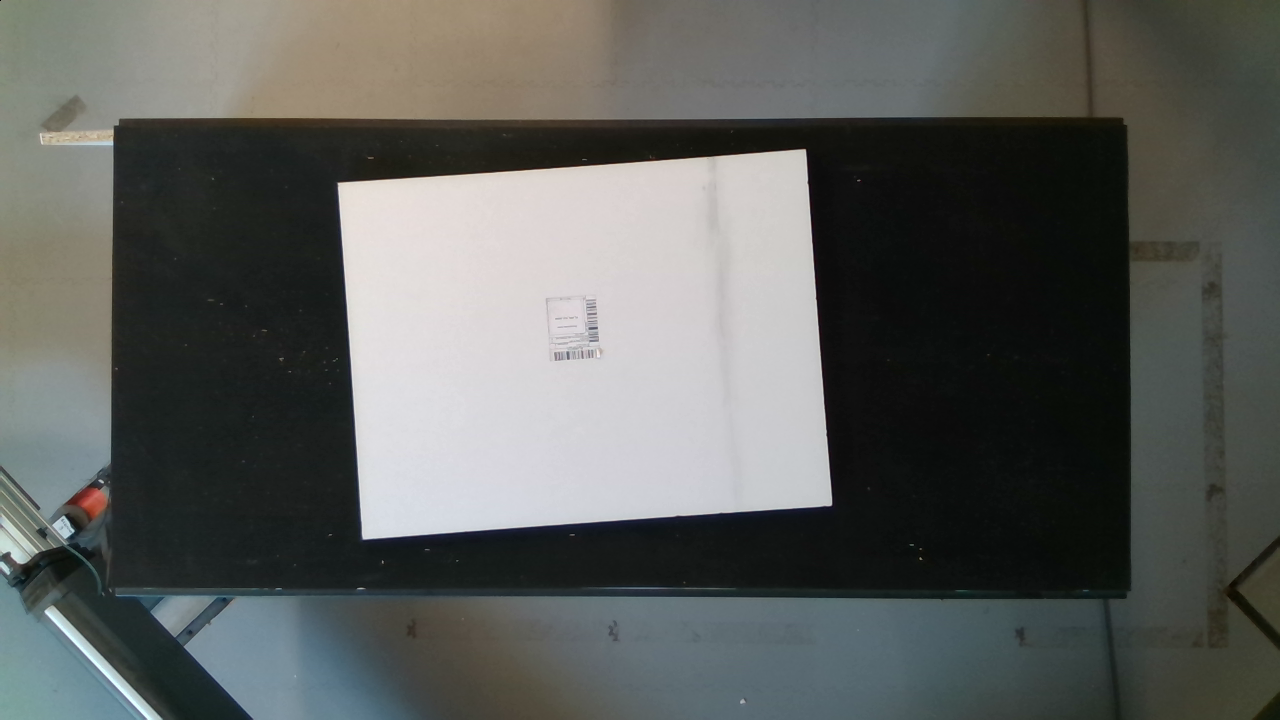barcode: (534, 285, 612, 369)
part2: (334, 144, 839, 555)
